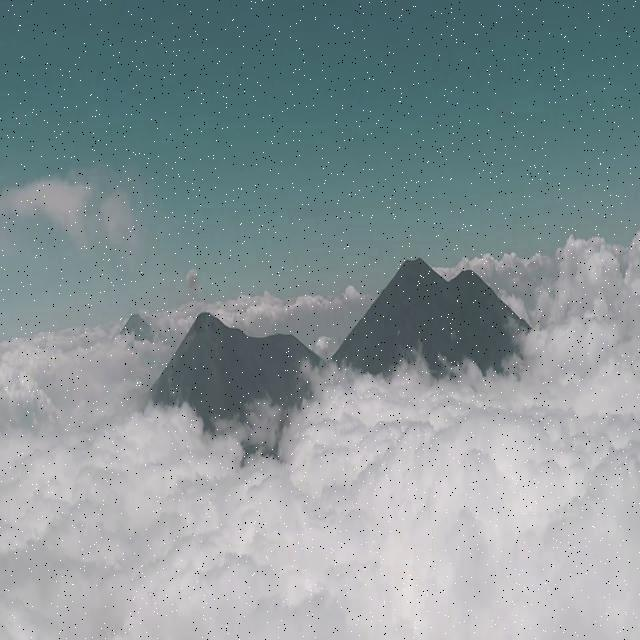Summit: (177, 310, 249, 350), (185, 268, 202, 298)
